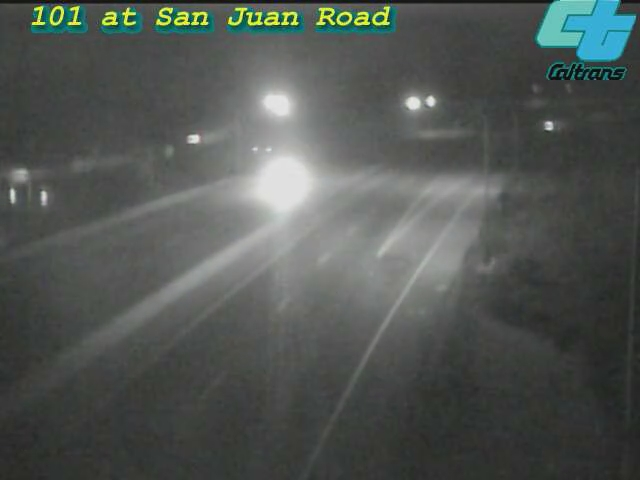vehicle: (245, 140, 325, 220)
